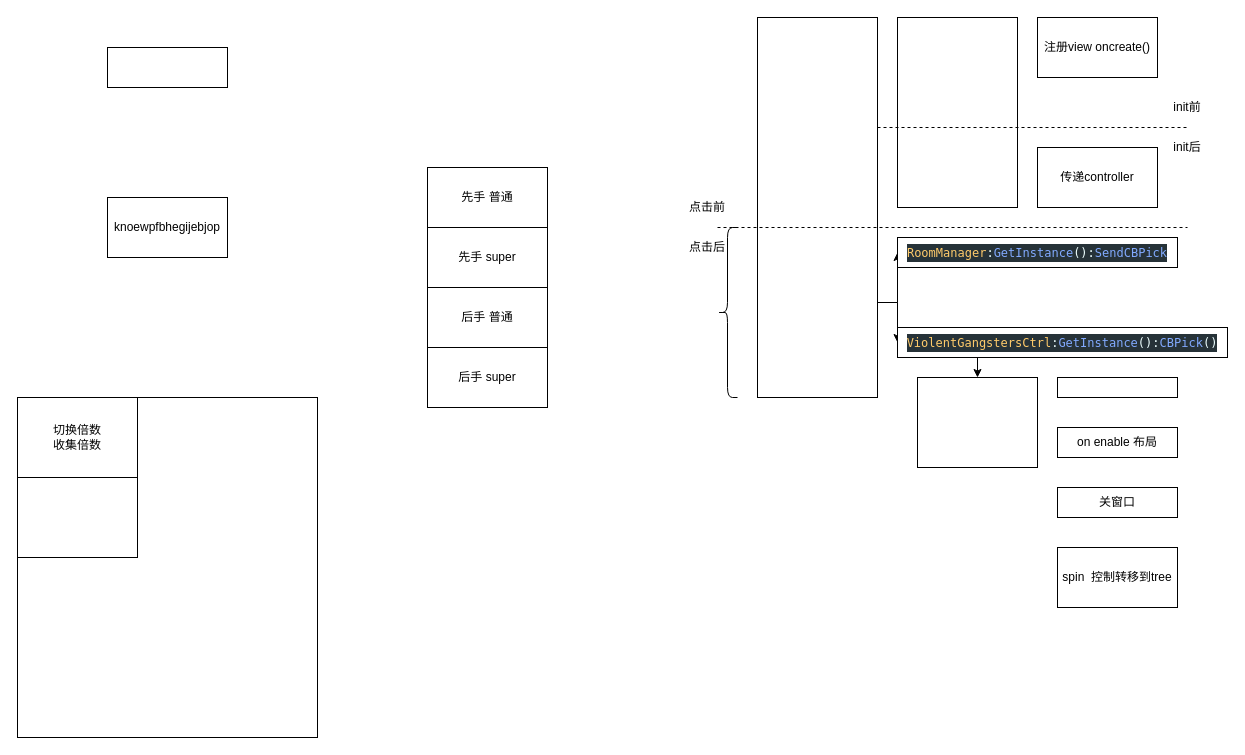
The diagram is 1245 pixels wide and 755 high, and some of its shapes have lost their labels. Here are the shapes that lost their labels. From the top down, the box of each, then its label:
(106, 46, 228, 88): round_start(跳转用)
(896, 16, 1018, 208): 开base、view
(756, 16, 878, 398): 开选项页面
(1056, 376, 1178, 398): icon 布局
(916, 376, 1038, 468): baseview:startcb
